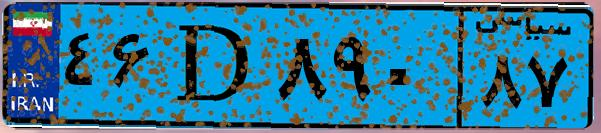0: (385, 28, 445, 110)
4: (57, 26, 110, 100)
6: (110, 28, 158, 98)
7: (525, 38, 570, 115)
8: (270, 28, 330, 110), (475, 38, 525, 113)
9: (330, 28, 385, 110)
D: (158, 12, 270, 120)
